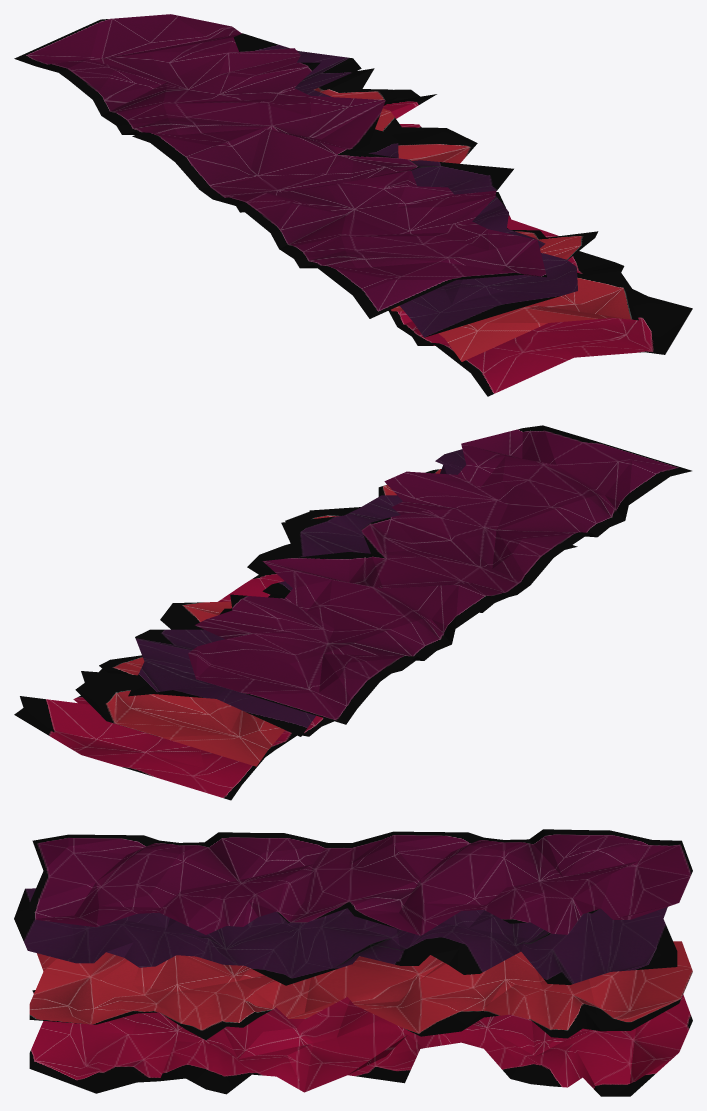
Rendered from Paroi_L.fbx.
3 renders of one model, top to bottom at view 1: azimuth 30°, elevation 25°; view 2: azimuth 150°, elevation 25°; view 3: azimuth 270°, elevation 25°, orthographic. The views are drawn at different scales.
Visible parts, largest first — view 1: Paroi_01_R1, Paroi_01_R7, Paroi_01_R13, Paroi_01_R5, Paroi_01_R11, Paroi_04_R1, Paroi_01_R6, Paroi_01_R10, Paroi_04_R10, Paroi_01_R12, Paroi_01_R9, Paroi_01_R2 (+16 smaller); view 2: Paroi_01_R1, Paroi_01_R13, Paroi_04_R6, Paroi_01_R7, Paroi_01_R5, Paroi_01_R6, Paroi_03_R5, Paroi_01_R12, Paroi_02_R8, Paroi_01_R2, Paroi_01_R11, Paroi_01_R9 (+13 smaller); view 3: Paroi_01_R1, Paroi_02_R8, Paroi_02_R3, Paroi_01_R13, Paroi_04_R1, Paroi_03_R1, Paroi_04_R9, Paroi_04_R8, Paroi_01_R7, Paroi_03_R10, Paroi_03_R3, Paroi_04_R6 (+33 smaller).
Boxes of the visible parts, box(x1,y1,x2,y2) form: Paroi_01_R1: box(294, 234, 455, 318); Paroi_01_R7: box(14, 19, 167, 99); Paroi_01_R13: box(213, 183, 395, 258); Paroi_01_R5: box(93, 81, 261, 134); Paroi_01_R11: box(248, 100, 385, 179); Paroi_04_R1: box(533, 289, 692, 357); Paroi_01_R6: box(92, 14, 241, 81); Paroi_01_R10: box(136, 128, 261, 189); Paroi_04_R10: box(412, 322, 573, 396); Paroi_01_R12: box(199, 151, 419, 199); Paroi_01_R9: box(218, 63, 384, 128); Paroi_01_R2: box(400, 221, 546, 277); Paroi_01_R1: box(503, 441, 691, 526); Paroi_01_R13: box(421, 505, 609, 585); Paroi_04_R6: box(14, 696, 203, 768); Paroi_01_R7: box(250, 654, 416, 724); Paroi_01_R5: box(324, 589, 455, 660); Paroi_01_R6: box(188, 625, 322, 694); Paroi_03_R5: box(75, 671, 229, 737); Paroi_01_R12: box(361, 517, 529, 594); Paroi_02_R8: box(128, 629, 225, 698); Paroi_01_R2: box(458, 425, 556, 504); Paroi_01_R11: box(263, 552, 471, 588); Paroi_01_R9: box(231, 561, 382, 628); Paroi_01_R1: box(32, 834, 181, 894); Paroi_02_R8: box(521, 919, 677, 984); Paroi_02_R3: box(192, 913, 359, 985); Paroi_01_R13: box(179, 832, 327, 900); Paroi_04_R1: box(29, 1021, 160, 1093); Paroi_03_R1: box(29, 958, 161, 1024); Paroi_04_R9: box(159, 1028, 312, 1094); Paroi_04_R8: box(287, 1020, 423, 1092); Paroi_01_R7: box(543, 829, 692, 884); Paroi_03_R10: box(133, 981, 303, 1040); Paroi_03_R3: box(355, 963, 514, 1036); Paroi_04_R6: box(536, 1025, 678, 1096).
Size of the model in its own units: 33.46 by 11.1 by 56.78.
